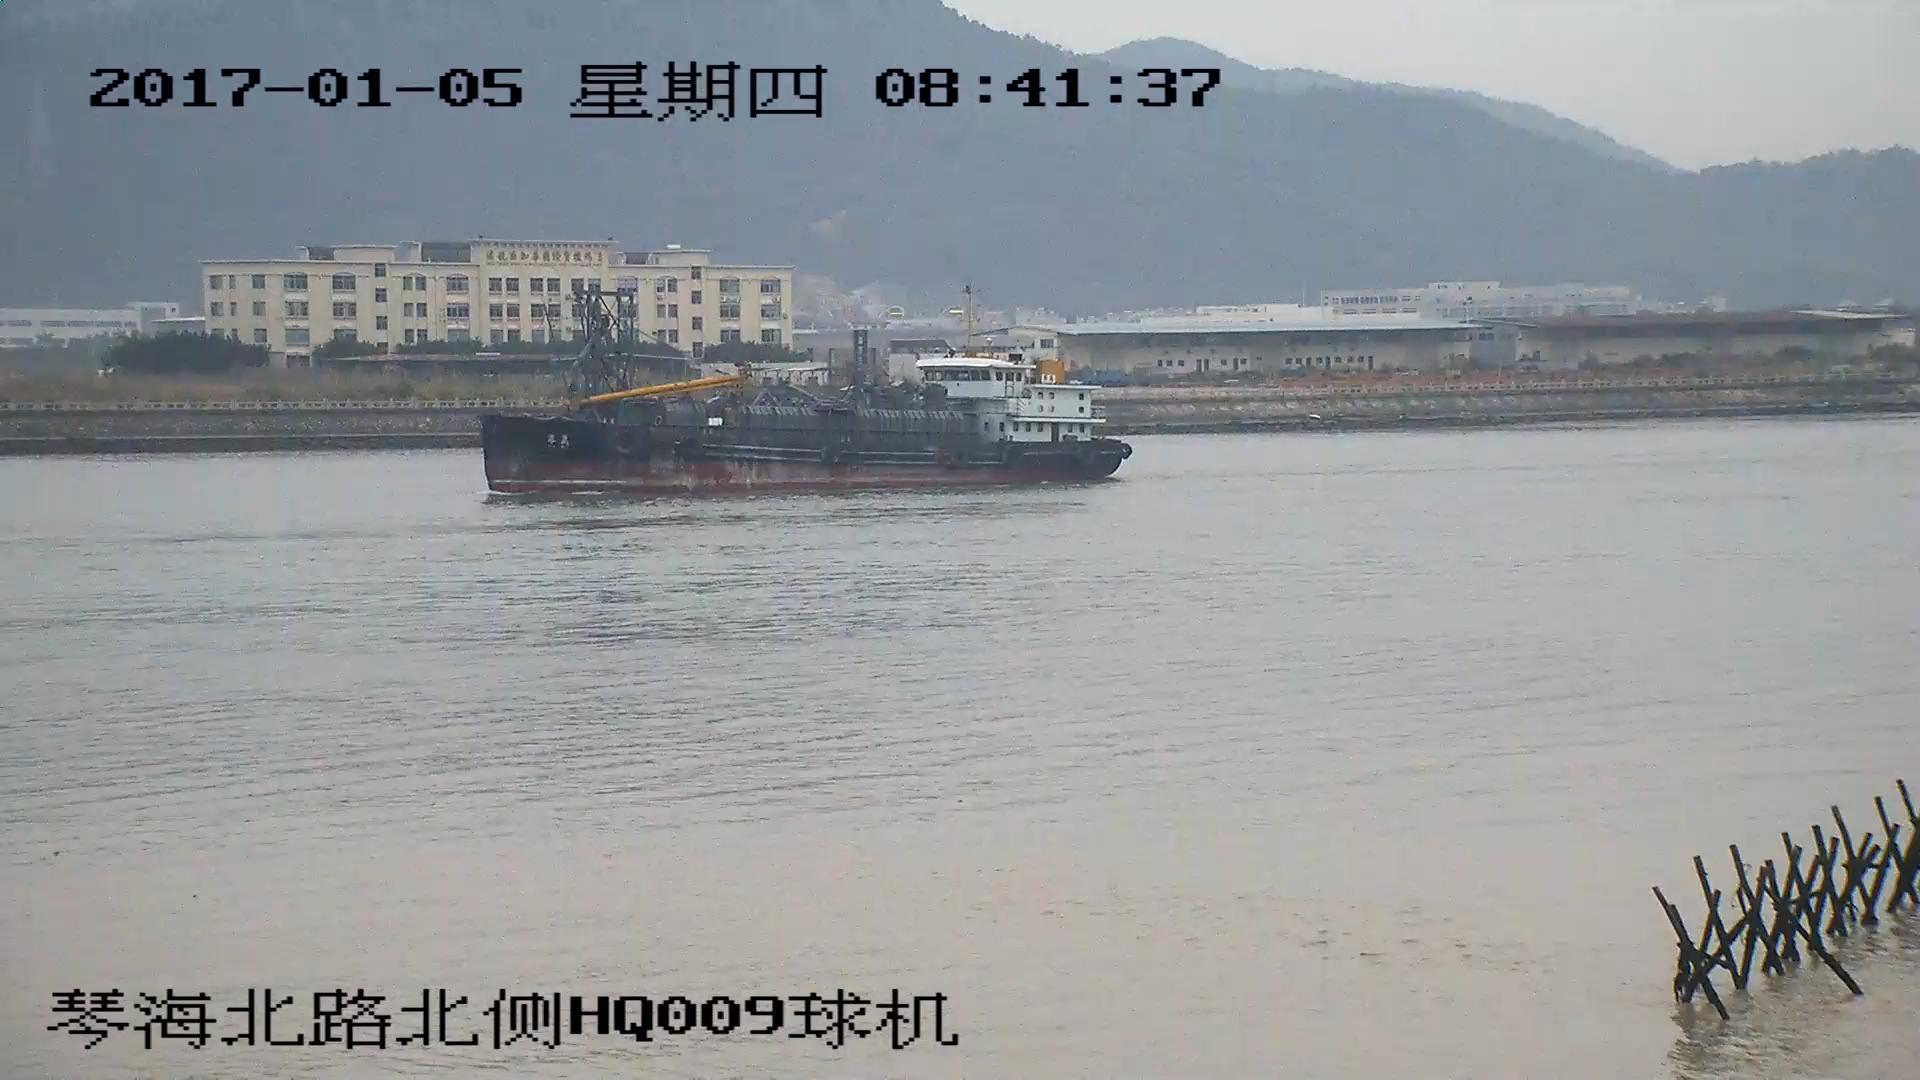bulk cargo carrier: (489, 299, 1121, 497)
